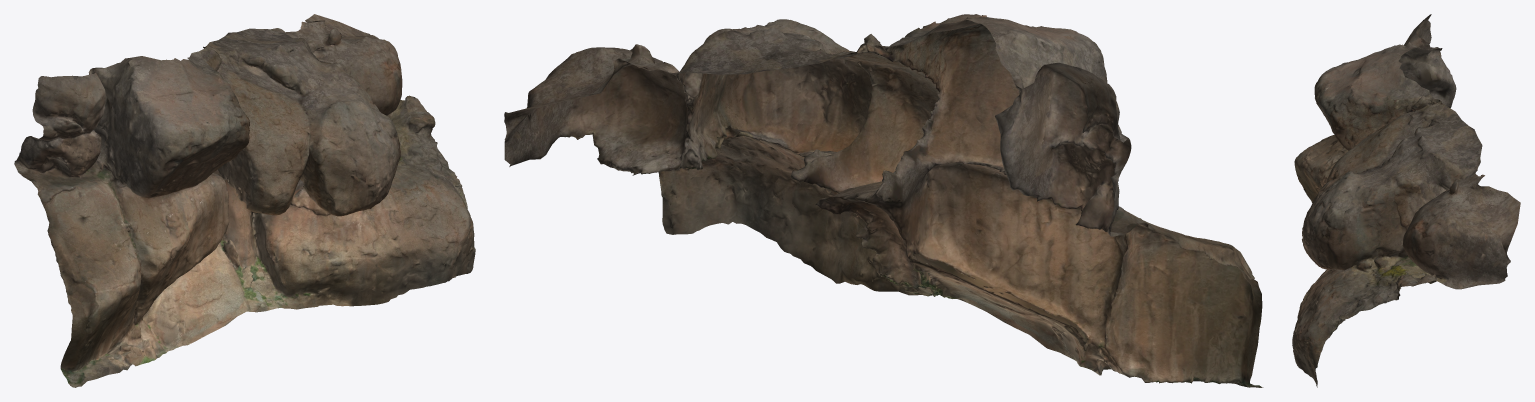
File: namaqualand_cliff_01.glb
3 views of the same model, side by side, from view 1: azimuth 30°, elevation 25°; view 2: azimuth 150°, elevation 25°; view 3: azimuth 270°, elevation 25° (orthographic). The views are drawn at different scales.
Parts seen in each view (by area): view 1: drone_rock_01; view 2: drone_rock_01; view 3: drone_rock_01.
Boxes of the visible parts, x1=… form: drone_rock_01: x1=14, y1=14, x2=475, y2=387; drone_rock_01: x1=504, y1=14, x2=1263, y2=387; drone_rock_01: x1=1292, y1=14, x2=1520, y2=387.
Size of the model in its own units: 8.28 by 4.96 by 4.39.
1 material, 1 textured.
